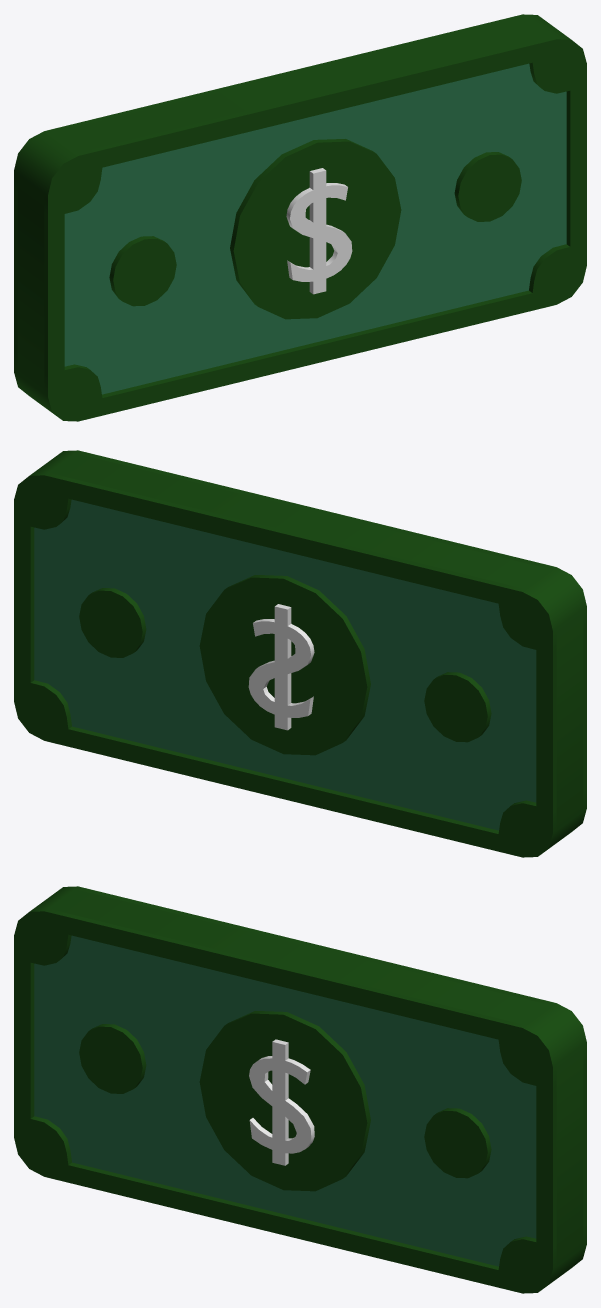
Rendered from usd_nobone.fbx.
The picture shows the model from 3 angles, top to bottom: view 1: azimuth 30°, elevation 25°; view 2: azimuth 150°, elevation 25°; view 3: azimuth 330°, elevation 25°; orthographic projection.
Parts seen in each view (by area): view 1: Cube.001; view 2: Cube.001; view 3: Cube.001.
Boxes of the visible parts, left/top/right/bottom form: Cube.001: left=14, top=14, right=586, bottom=421; Cube.001: left=14, top=450, right=586, bottom=857; Cube.001: left=14, top=886, right=586, bottom=1293.
Size of the model in its own units: 425 by 200 by 55.86.
